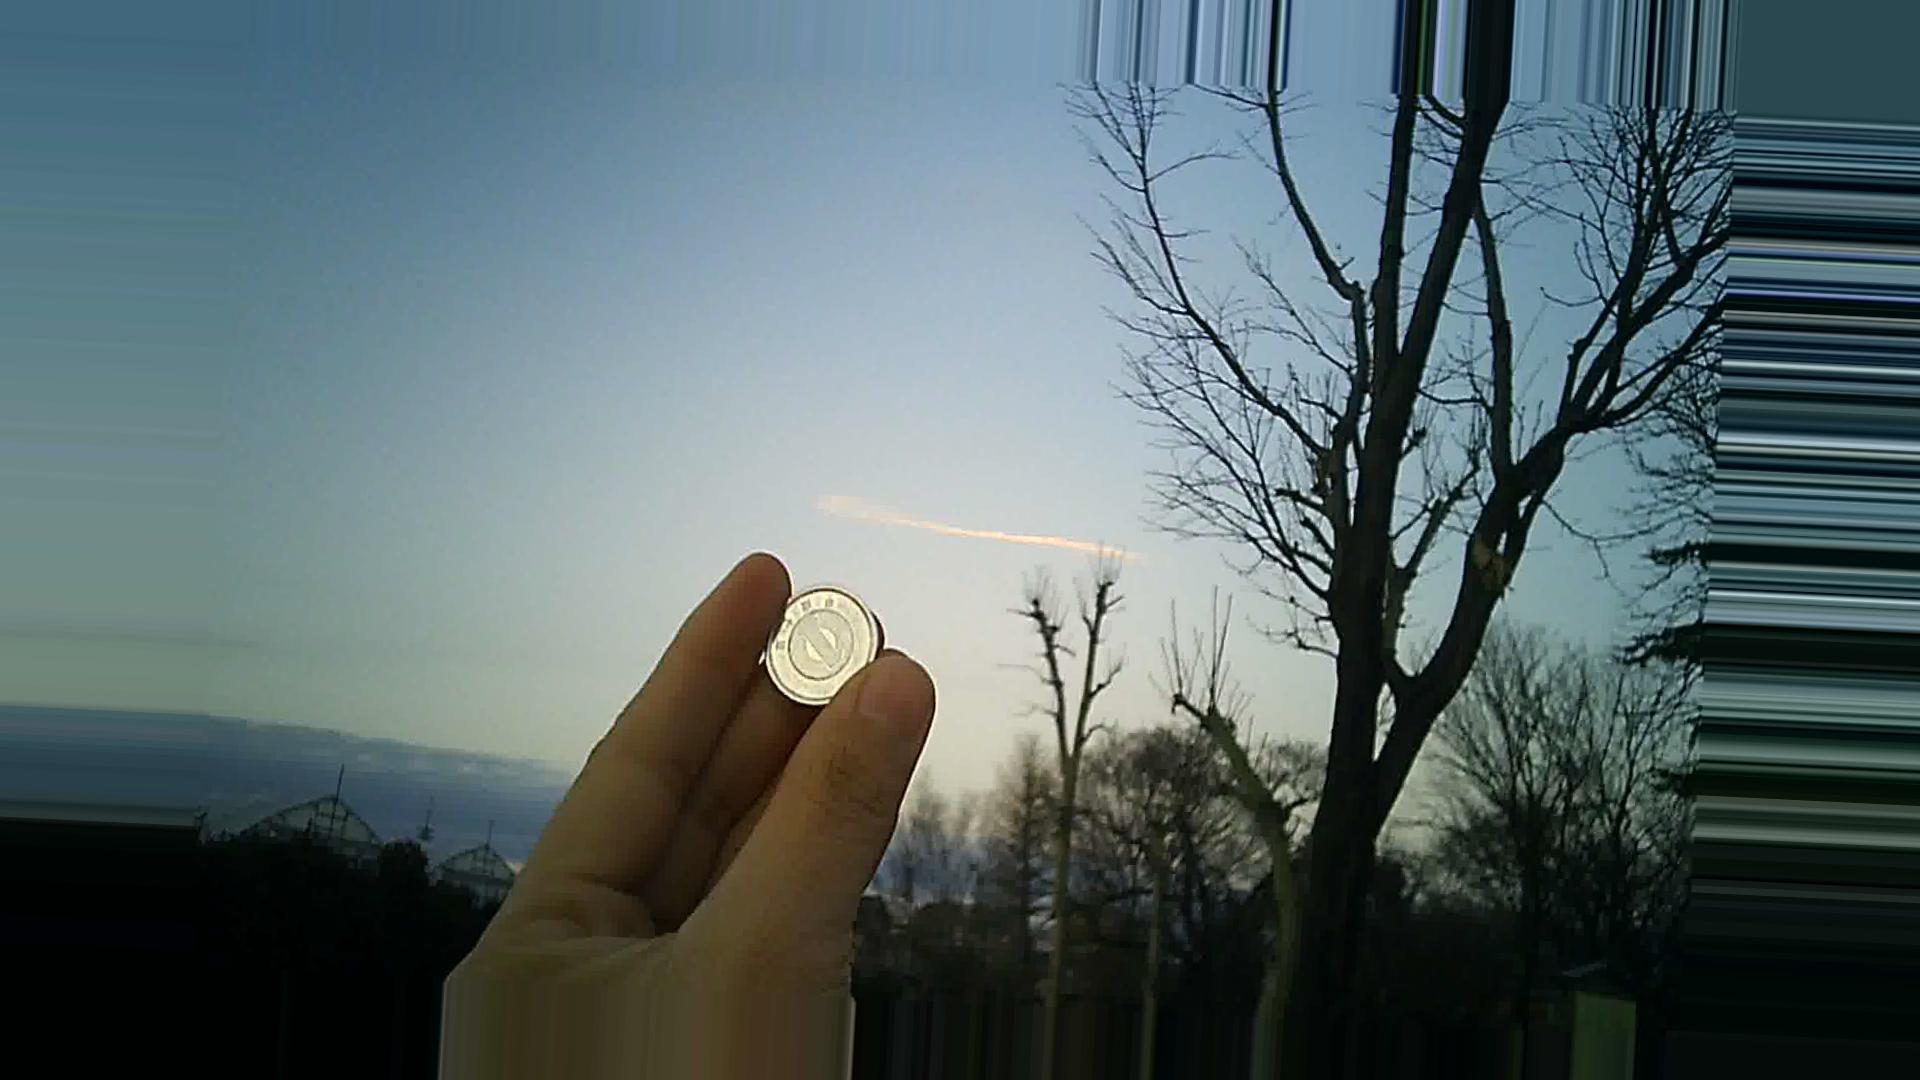1 Yen: (749, 578, 897, 725)
